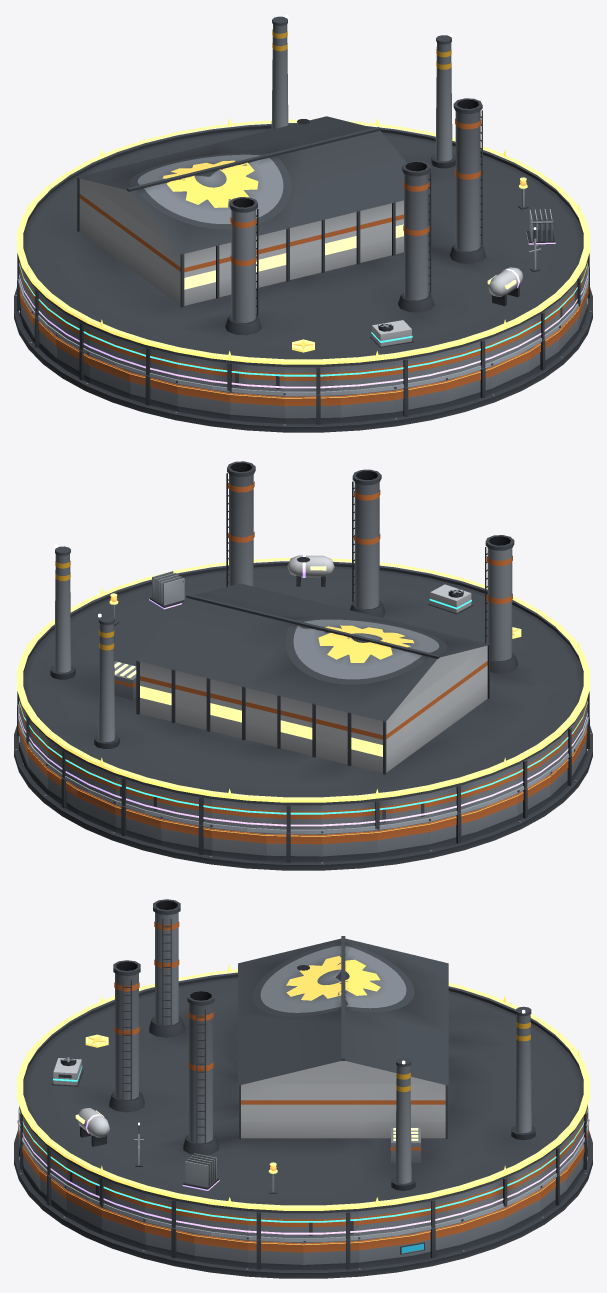
File: refinery_xl.glb
3 renders of one model, top to bottom at view 1: azimuth 30°, elevation 25°; view 2: azimuth 150°, elevation 25°; view 3: azimuth 270°, elevation 25°, orthographic.
Visible parts, largest first — view 1: Roof, Base, L4, Wall_20, Wall_21, Wall_22, Wall_19, Wall_23, Wall_18, Wall_24, Upper_21, Upper_22 (+17 smaller); view 2: Roof, Base, L4, Wall_10, Wall_11, Wall_09, Wall_12, Wall_08, Wall_13, Wall_07, Upper_10, Upper_11 (+17 smaller); view 3: Roof, Base, L4, Wall_00, Wall_31, Wall_30, Wall_01, Wall_29, Wall_02, Upper_31, Wall_28, Wall_03 (+16 smaller).
Part boxes in pixels (box(x1,y1,x2,y2)): Roof: box(23, 14, 583, 367); Base: box(14, 287, 592, 432); L4: box(487, 209, 555, 306); Wall_20: box(229, 391, 284, 423); Wall_21: box(284, 395, 340, 424); Wall_22: box(340, 390, 395, 422); Wall_19: box(177, 384, 229, 419); Wall_23: box(395, 380, 446, 417); Wall_18: box(129, 371, 177, 411); Wall_24: box(445, 366, 491, 407); Upper_21: box(285, 366, 340, 394); Upper_22: box(340, 361, 394, 390); Roof: box(23, 461, 583, 805); Base: box(14, 726, 592, 870); L4: box(149, 555, 334, 609); Wall_10: box(266, 833, 322, 862); Wall_11: box(322, 830, 377, 861); Wall_09: box(211, 828, 266, 860); Wall_12: box(377, 822, 429, 857); Wall_08: box(160, 816, 211, 855); Wall_13: box(429, 809, 477, 849); Wall_07: box(115, 804, 161, 845); Upper_10: box(266, 804, 321, 832); Upper_11: box(322, 801, 377, 829); Roof: box(23, 899, 583, 1213); Base: box(14, 1130, 592, 1278); L4: box(75, 1108, 219, 1190); Wall_00: box(303, 1239, 359, 1270); Wall_31: box(247, 1239, 303, 1269); Wall_30: box(194, 1233, 247, 1267); Wall_01: box(359, 1233, 412, 1267); Wall_29: box(144, 1222, 194, 1260); Wall_02: box(412, 1222, 462, 1260); Upper_31: box(248, 1211, 303, 1239); Wall_28: box(101, 1206, 145, 1249); Wall_03: box(461, 1207, 505, 1249).
Bounding box in the file's own units: 23.15 × 9.52 × 23.15.
